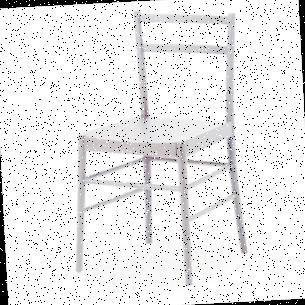Silla: (62, 9, 249, 295)
